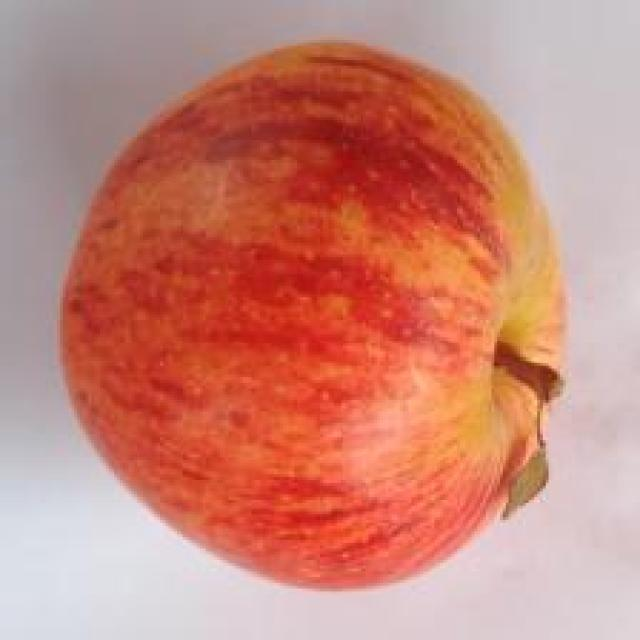apple: (18, 14, 640, 612)
